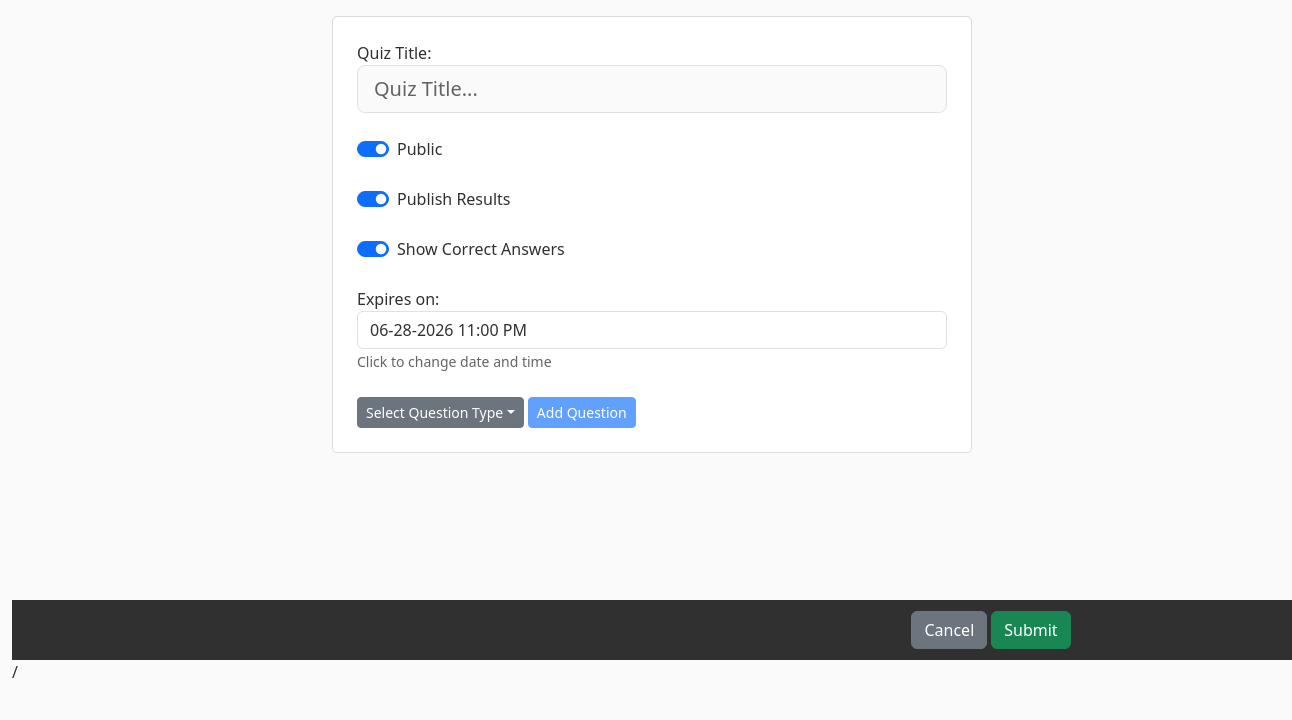
Test: QuizCreator › redirects to /dashboard and creates an alert after successful submit
Click the button "Submit" at (1031, 630), box [991,611,1071,649]
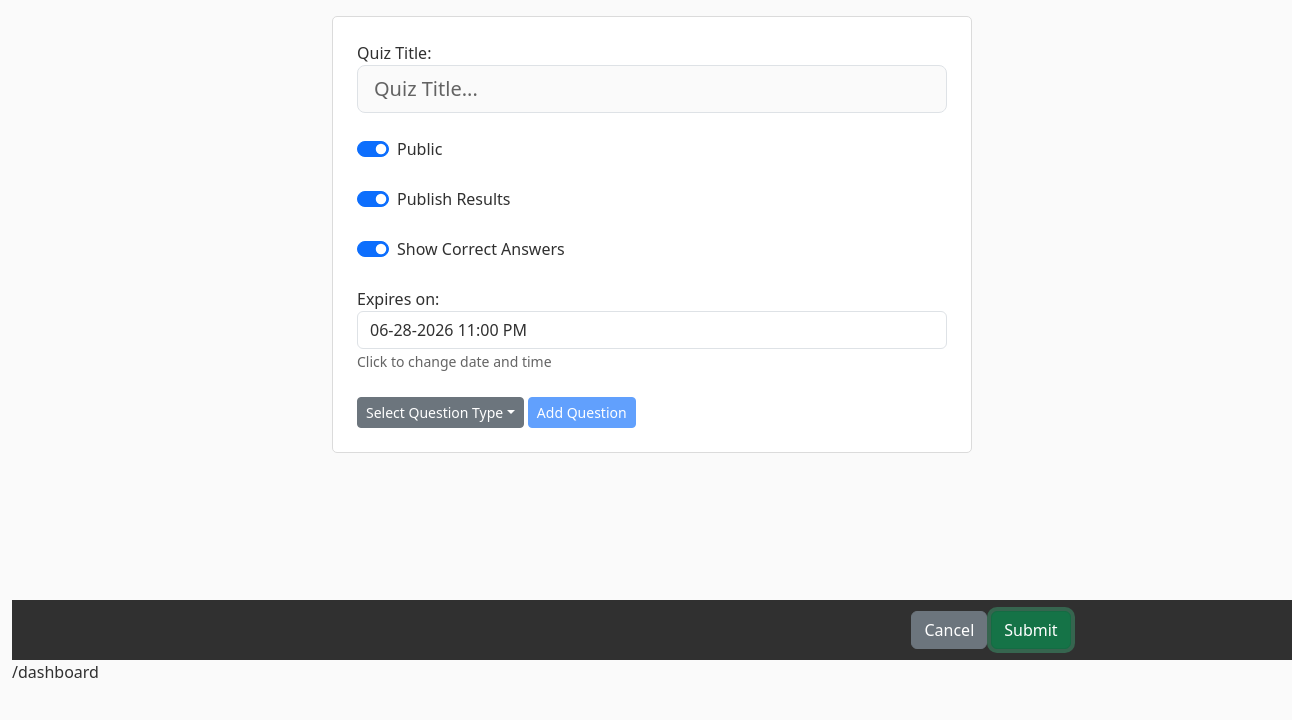
Expected: the text with test id "router-location" reads "/dashboard", [12,661,99,683]
